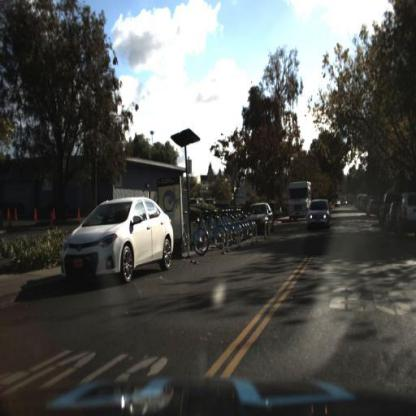car: (60, 198, 176, 287), (379, 193, 406, 228), (395, 193, 416, 238), (247, 202, 274, 236), (309, 199, 332, 231), (386, 201, 409, 232), (368, 200, 385, 218)
truck: (288, 182, 313, 222)
